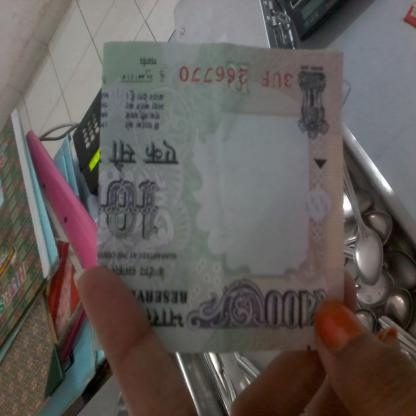Old100Front: (98, 41, 345, 352)
